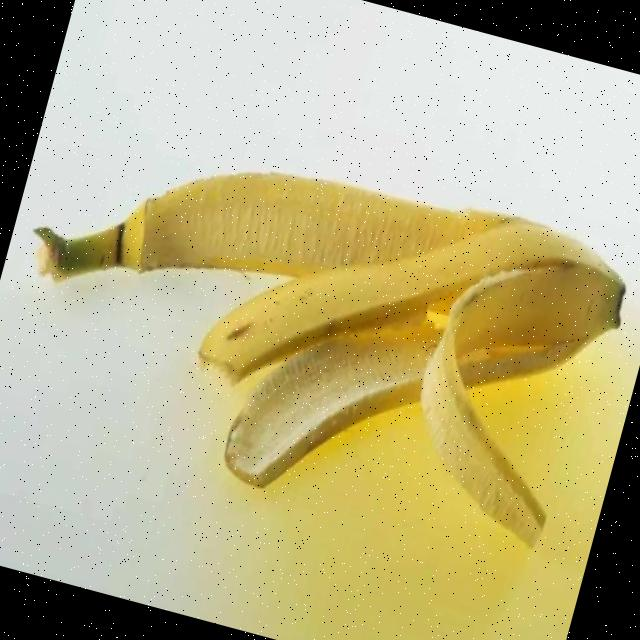banana-peel: (0, 92, 640, 566), (21, 94, 525, 396), (190, 143, 639, 476)
